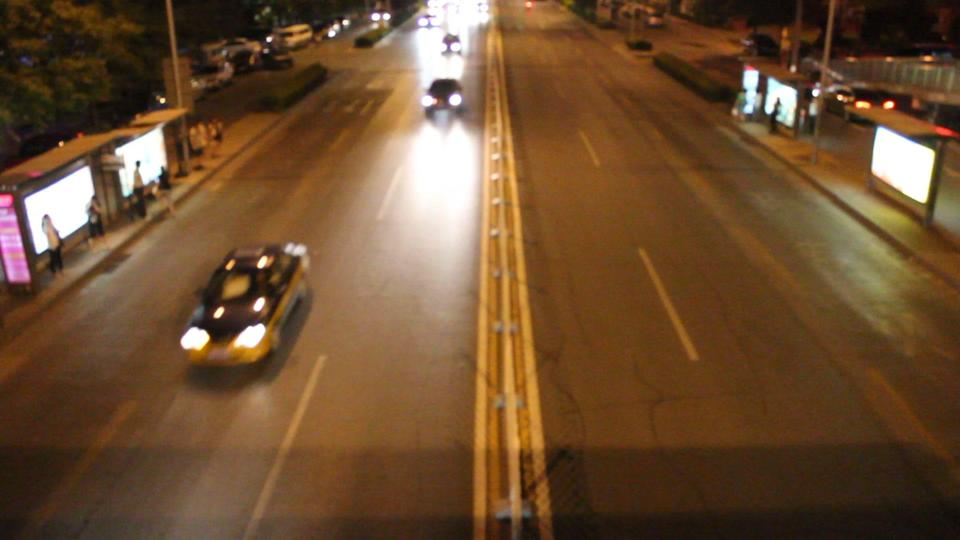car: (179, 242, 314, 368), (418, 77, 472, 132), (366, 7, 390, 26), (440, 34, 464, 52), (417, 12, 441, 28)
person: (39, 212, 66, 273), (123, 154, 146, 223), (155, 156, 173, 220)
